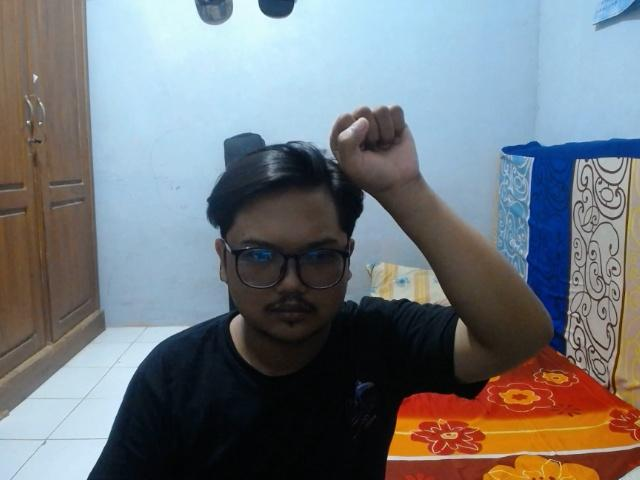Grab: (326, 98, 431, 198)
